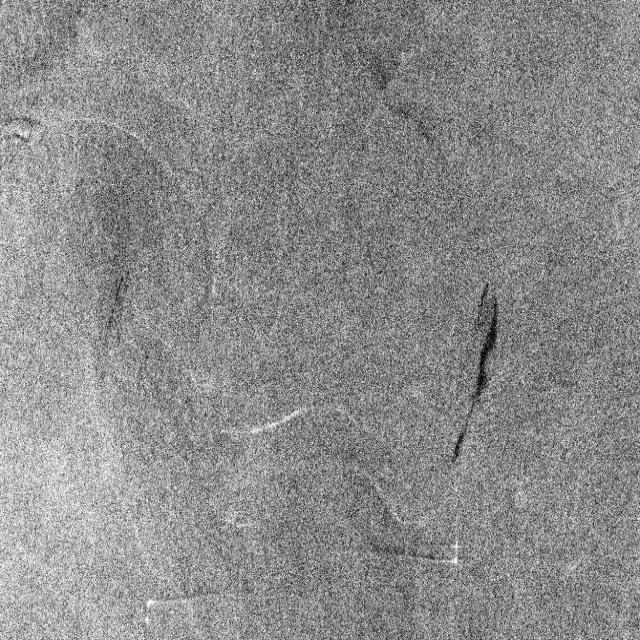oil-spill: (444, 281, 506, 473)
ship: (443, 536, 465, 570)
